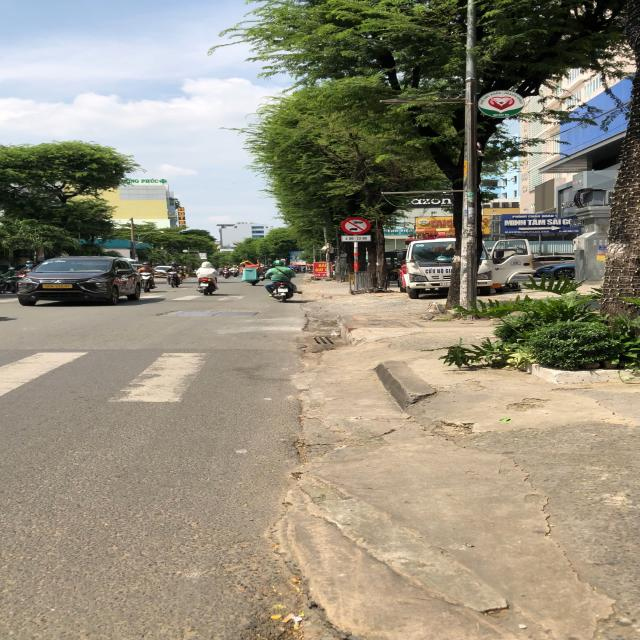Bien bao cam xe oto khach va xe oto tai: (338, 215, 374, 234)
